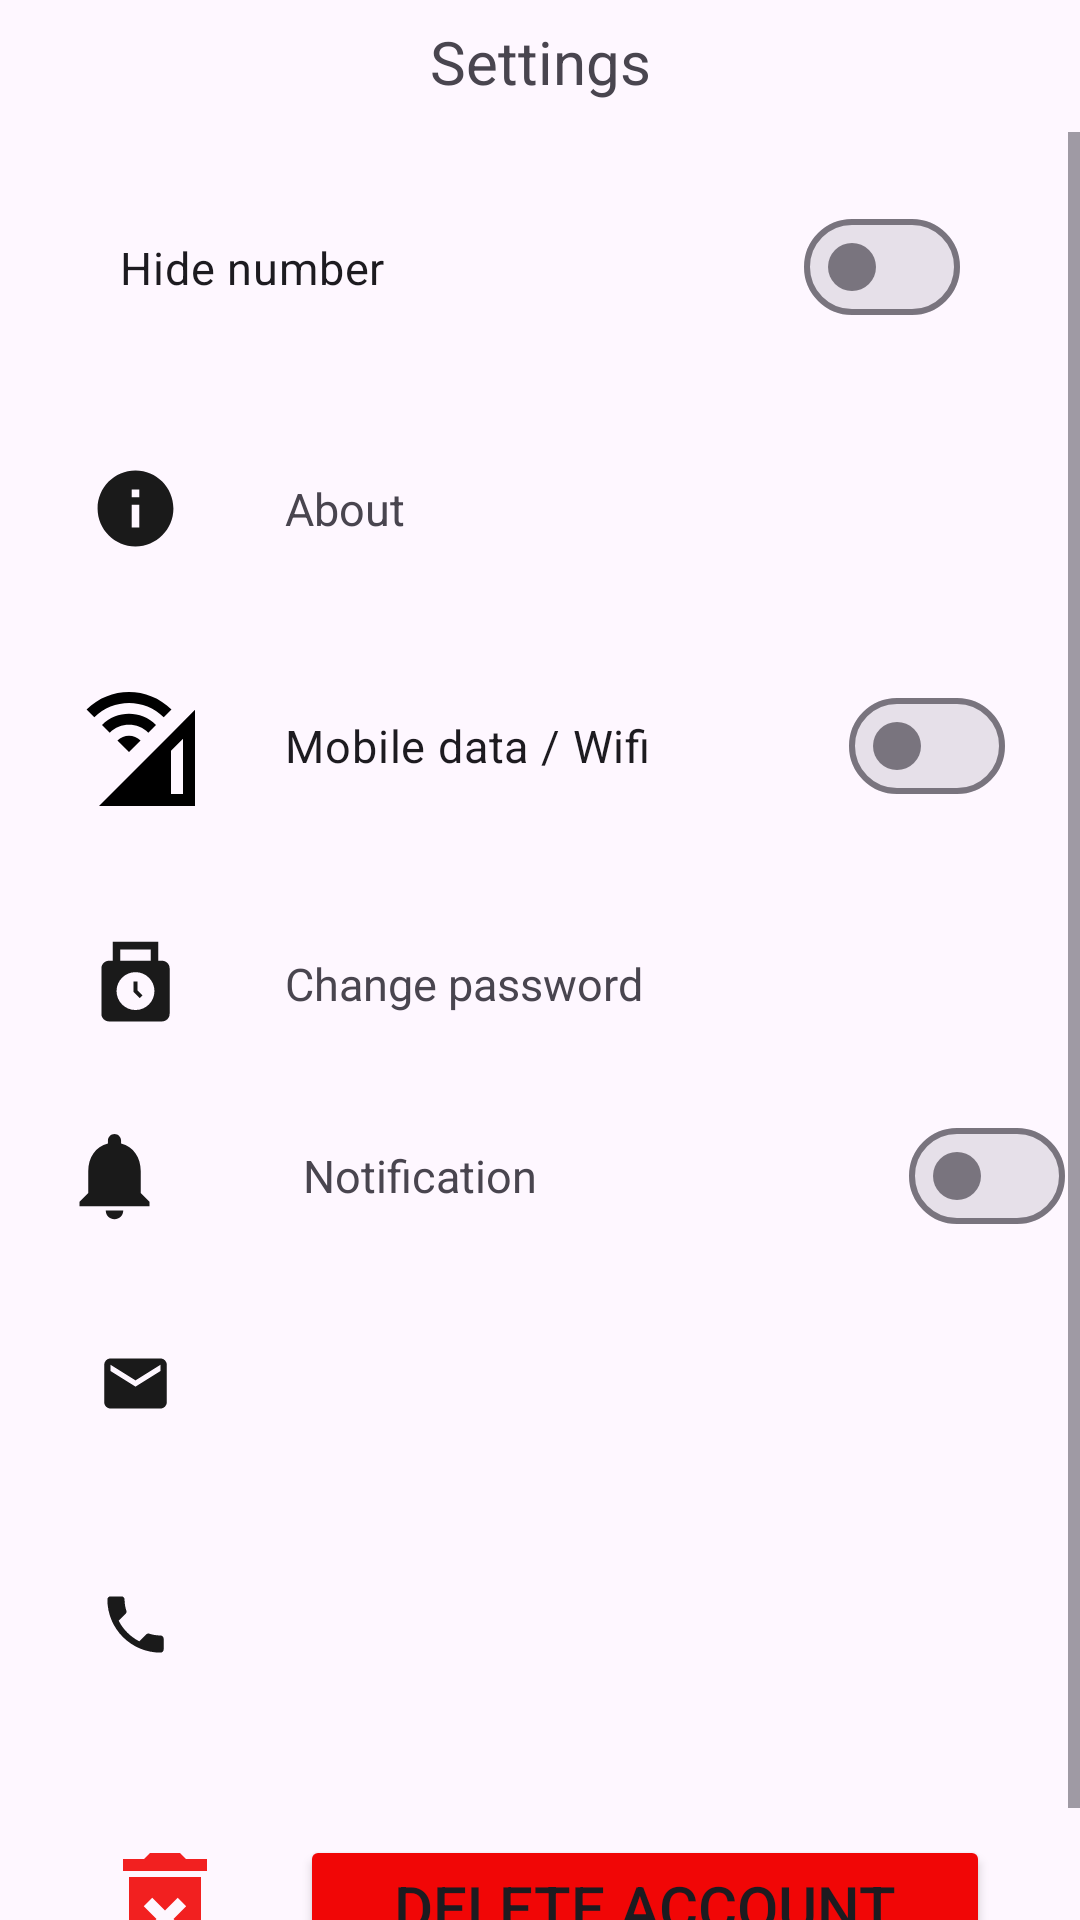

Icon click points for this 1080x1920 phone screenshot, format [x,y]:
email: [135,1383]
info: [135,508]
phone: [135,1624]
